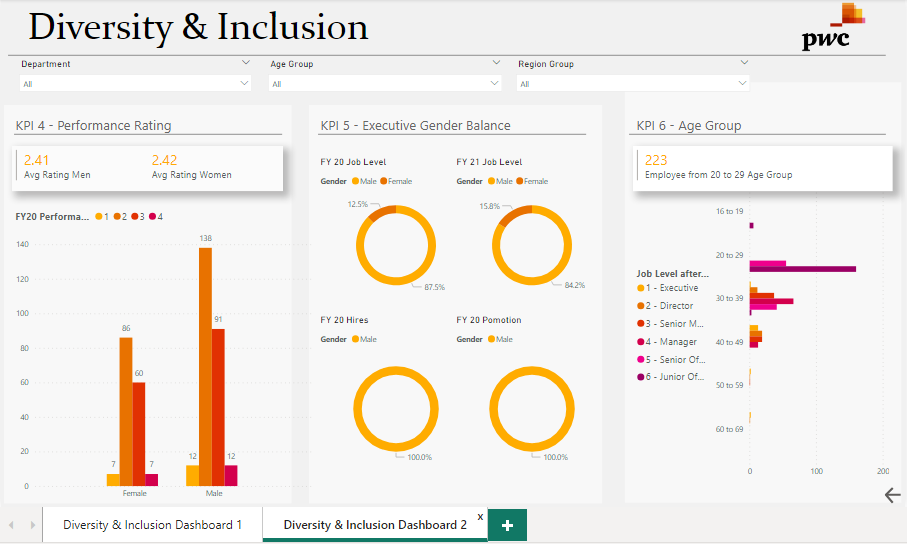

The dashboard page shown, as its layout file describes it:
{"tool":"powerbi","page":{"name":"Diversity & Inclusion Dashboard 2","canvas":[1280,720],"ordinal":1},"visuals":[{"type":"basicShape","box":[0,144,416,576],"z":0},{"type":"basicShape","box":[0,64,1264,32],"z":1000},{"type":"basicShape","box":[432,144,424,576],"z":2000},{"type":"basicShape","box":[880,112,400,608],"z":3000},{"type":"slicer","fields":{"Values":["Pharma Group AG.Last Department in FY20"]},"box":[16,80,350,64],"z":4000},{"type":"slicer","fields":{"Values":["Pharma Group AG.Age group"]},"box":[368,80,352,64],"z":5000},{"type":"slicer","fields":{"Values":["Pharma Group AG.Broad region group: nationality 1"]},"box":[720,80,352,64],"z":6000},{"type":"clusteredColumnChart","fields":{"Category":["Pharma Group AG.Gender"],"Y":["CountNonNull(Pharma Group AG.Employee ID)"],"Series":["Pharma Group AG.FY20 Performance Rating"]},"box":[16,288,432,432],"z":7000},{"type":"textbox","box":[16,160,368,48],"z":8000},{"type":"multiRowCard","fields":{"Values":["Pharma Group AG.Avg performamnce (men)","Pharma Group AG.Avg performamnce (women)"]},"box":[16,208,384,64],"z":9000},{"type":"basicShape","box":[8,176,400,32],"z":10000},{"type":"donutChart","title":"FY 21 Job Level","fields":{"Category":["Pharma Group AG.Gender"],"Y":["CountNonNull(Pharma Group AG.Employee ID)"]},"box":[640,224,224,208],"z":11000},{"type":"basicShape","box":[440,176,400,32],"z":12000},{"type":"textbox","box":[448,160,368,48],"z":13000},{"type":"basicShape","box":[880,176,384,32],"z":14000},{"type":"textbox","box":[896,160,368,48],"z":15000},{"type":"clusteredBarChart","fields":{"Category":["Pharma Group AG.Age group"],"Y":["CountNonNull(Pharma Group AG.Employee ID)"],"Series":["Pharma Group AG.Job Level after FY21 promotions"]},"box":[896,240,368,448],"z":16000},{"type":"multiRowCard","fields":{"Values":["CountNonNull(Pharma Group AG.Employee ID)"]},"box":[896,208,368,64],"z":17000},{"type":"donutChart","title":"FY 20 Job Level","fields":{"Category":["Pharma Group AG.Gender"],"Y":["CountNonNull(Pharma Group AG.Employee ID)"]},"box":[448,224,224,208],"z":18000},{"type":"donutChart","title":"FY 20 Hires","fields":{"Category":["Pharma Group AG.Gender"],"Y":["CountNonNull(Pharma Group AG.Employee ID)"]},"box":[448,448,224,224],"z":19000},{"type":"donutChart","title":"FY 20 Pomotion","fields":{"Category":["Pharma Group AG.Gender"],"Y":["CountNonNull(Pharma Group AG.Employee ID)"]},"box":[640,448,224,224],"z":20000},{"type":"actionButton","box":[1248,688,32,32],"z":21000},{"type":"textbox","box":[32,0,1168,80],"z":22000},{"type":"image","box":[1080,0,199.8,79.4],"z":22001}]}

Visuals, with their boxes on the page's 1280x720 design canvas (x1, y1, x2, y2). These are canvas units, not pixel positions in the 907x544 screenshot, which may show the page scaled, cropped or inside an application window:
basicShape: pyautogui.locateOnScreen(0, 144, 416, 720)
basicShape: pyautogui.locateOnScreen(0, 64, 1264, 96)
basicShape: pyautogui.locateOnScreen(432, 144, 856, 720)
basicShape: pyautogui.locateOnScreen(880, 112, 1280, 720)
slicer - Pharma Group AG.Last Department in FY20: pyautogui.locateOnScreen(16, 80, 366, 144)
slicer - Pharma Group AG.Age group: pyautogui.locateOnScreen(368, 80, 720, 144)
slicer - Pharma Group AG.Broad region group: nationality 1: pyautogui.locateOnScreen(720, 80, 1072, 144)
clusteredColumnChart - Pharma Group AG.Gender x CountNonNull(Pharma Group AG.Employee ID): pyautogui.locateOnScreen(16, 288, 448, 720)
textbox: pyautogui.locateOnScreen(16, 160, 384, 208)
multiRowCard - Pharma Group AG.Avg performamnce (men) x Pharma Group AG.Avg performamnce (women): pyautogui.locateOnScreen(16, 208, 400, 272)
basicShape: pyautogui.locateOnScreen(8, 176, 408, 208)
"FY 21 Job Level" donutChart: pyautogui.locateOnScreen(640, 224, 864, 432)
basicShape: pyautogui.locateOnScreen(440, 176, 840, 208)
textbox: pyautogui.locateOnScreen(448, 160, 816, 208)
basicShape: pyautogui.locateOnScreen(880, 176, 1264, 208)
textbox: pyautogui.locateOnScreen(896, 160, 1264, 208)
clusteredBarChart - Pharma Group AG.Age group x CountNonNull(Pharma Group AG.Employee ID): pyautogui.locateOnScreen(896, 240, 1264, 688)
multiRowCard - CountNonNull(Pharma Group AG.Employee ID): pyautogui.locateOnScreen(896, 208, 1264, 272)
"FY 20 Job Level" donutChart: pyautogui.locateOnScreen(448, 224, 672, 432)
"FY 20 Hires" donutChart: pyautogui.locateOnScreen(448, 448, 672, 672)
"FY 20 Pomotion" donutChart: pyautogui.locateOnScreen(640, 448, 864, 672)
actionButton: pyautogui.locateOnScreen(1248, 688, 1280, 720)
textbox: pyautogui.locateOnScreen(32, 0, 1200, 80)
image: pyautogui.locateOnScreen(1080, 0, 1280, 79)
